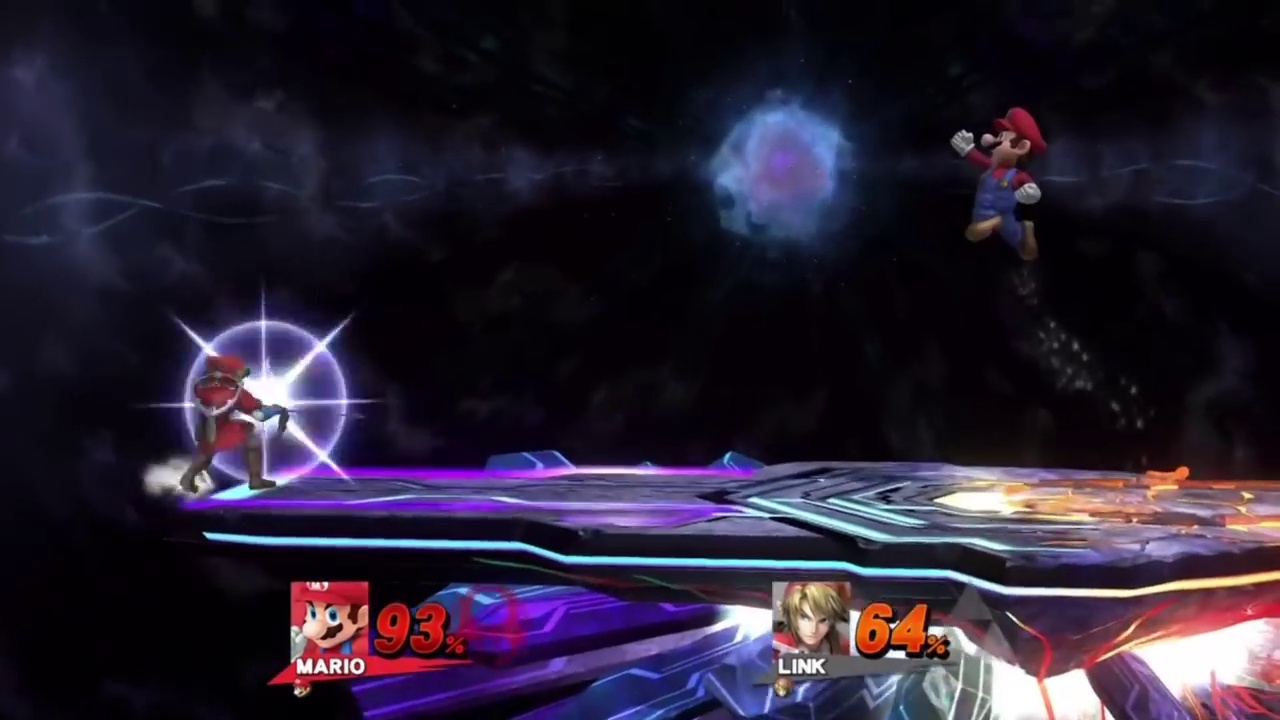Mario: (952, 108, 1043, 259)
